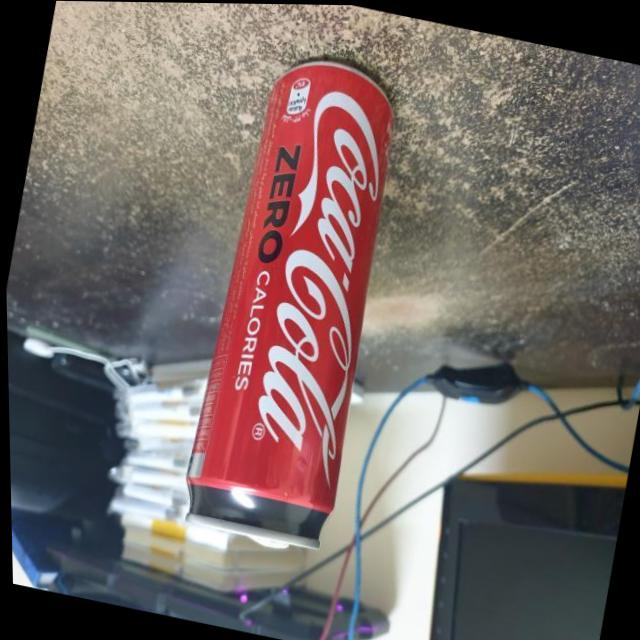metal: (166, 43, 419, 557)
